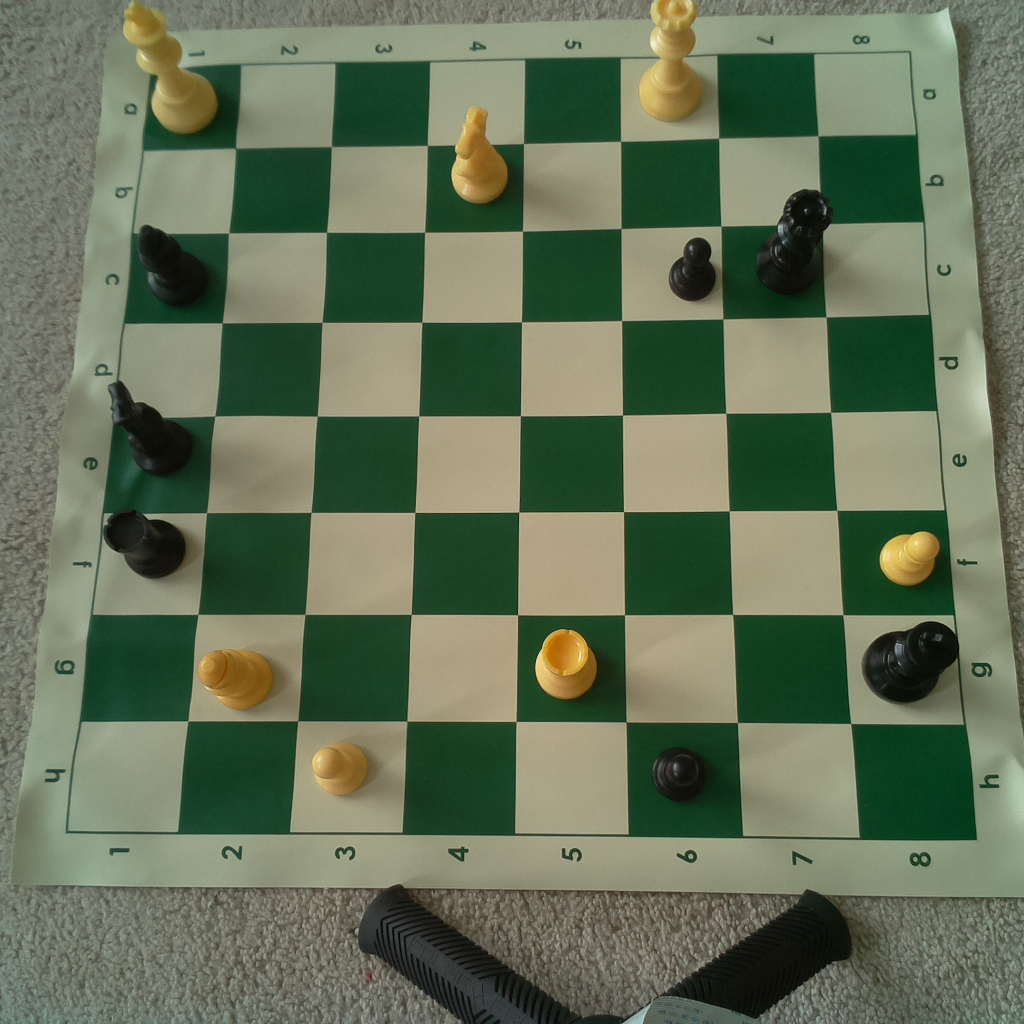black_bishop: (132, 223, 208, 310)
black_king: (860, 613, 960, 705)
black_knight: (101, 374, 199, 479)
black_pawn: (644, 738, 712, 805), (666, 235, 718, 305)
black_queen: (757, 187, 836, 304)
black_rook: (101, 505, 190, 579)
file_a: (141, 49, 921, 152)
file_b: (133, 135, 924, 235)
file_c: (123, 223, 929, 326)
file_d: (108, 314, 937, 419)
file_e: (102, 412, 944, 512)
file_f: (92, 510, 953, 617)
file_g: (84, 615, 964, 725)
file_h: (67, 719, 977, 843)
outline: (66, 51, 979, 843)
rank_1: (64, 62, 242, 833)
rank_2: (177, 62, 337, 836)
rank_3: (288, 62, 434, 834)
rank_4: (402, 60, 527, 835)
rank_5: (514, 60, 631, 835)
rank_6: (620, 54, 745, 836)
rank_7: (718, 56, 860, 838)
rank_8: (815, 54, 976, 840)
white_bishop: (193, 641, 275, 715)
white_king: (111, 1, 223, 136)
white_knight: (444, 100, 514, 206)
white_pawn: (876, 523, 944, 592), (308, 730, 373, 801)
white_queen: (632, 1, 712, 126)
white_rook: (527, 625, 605, 701)
